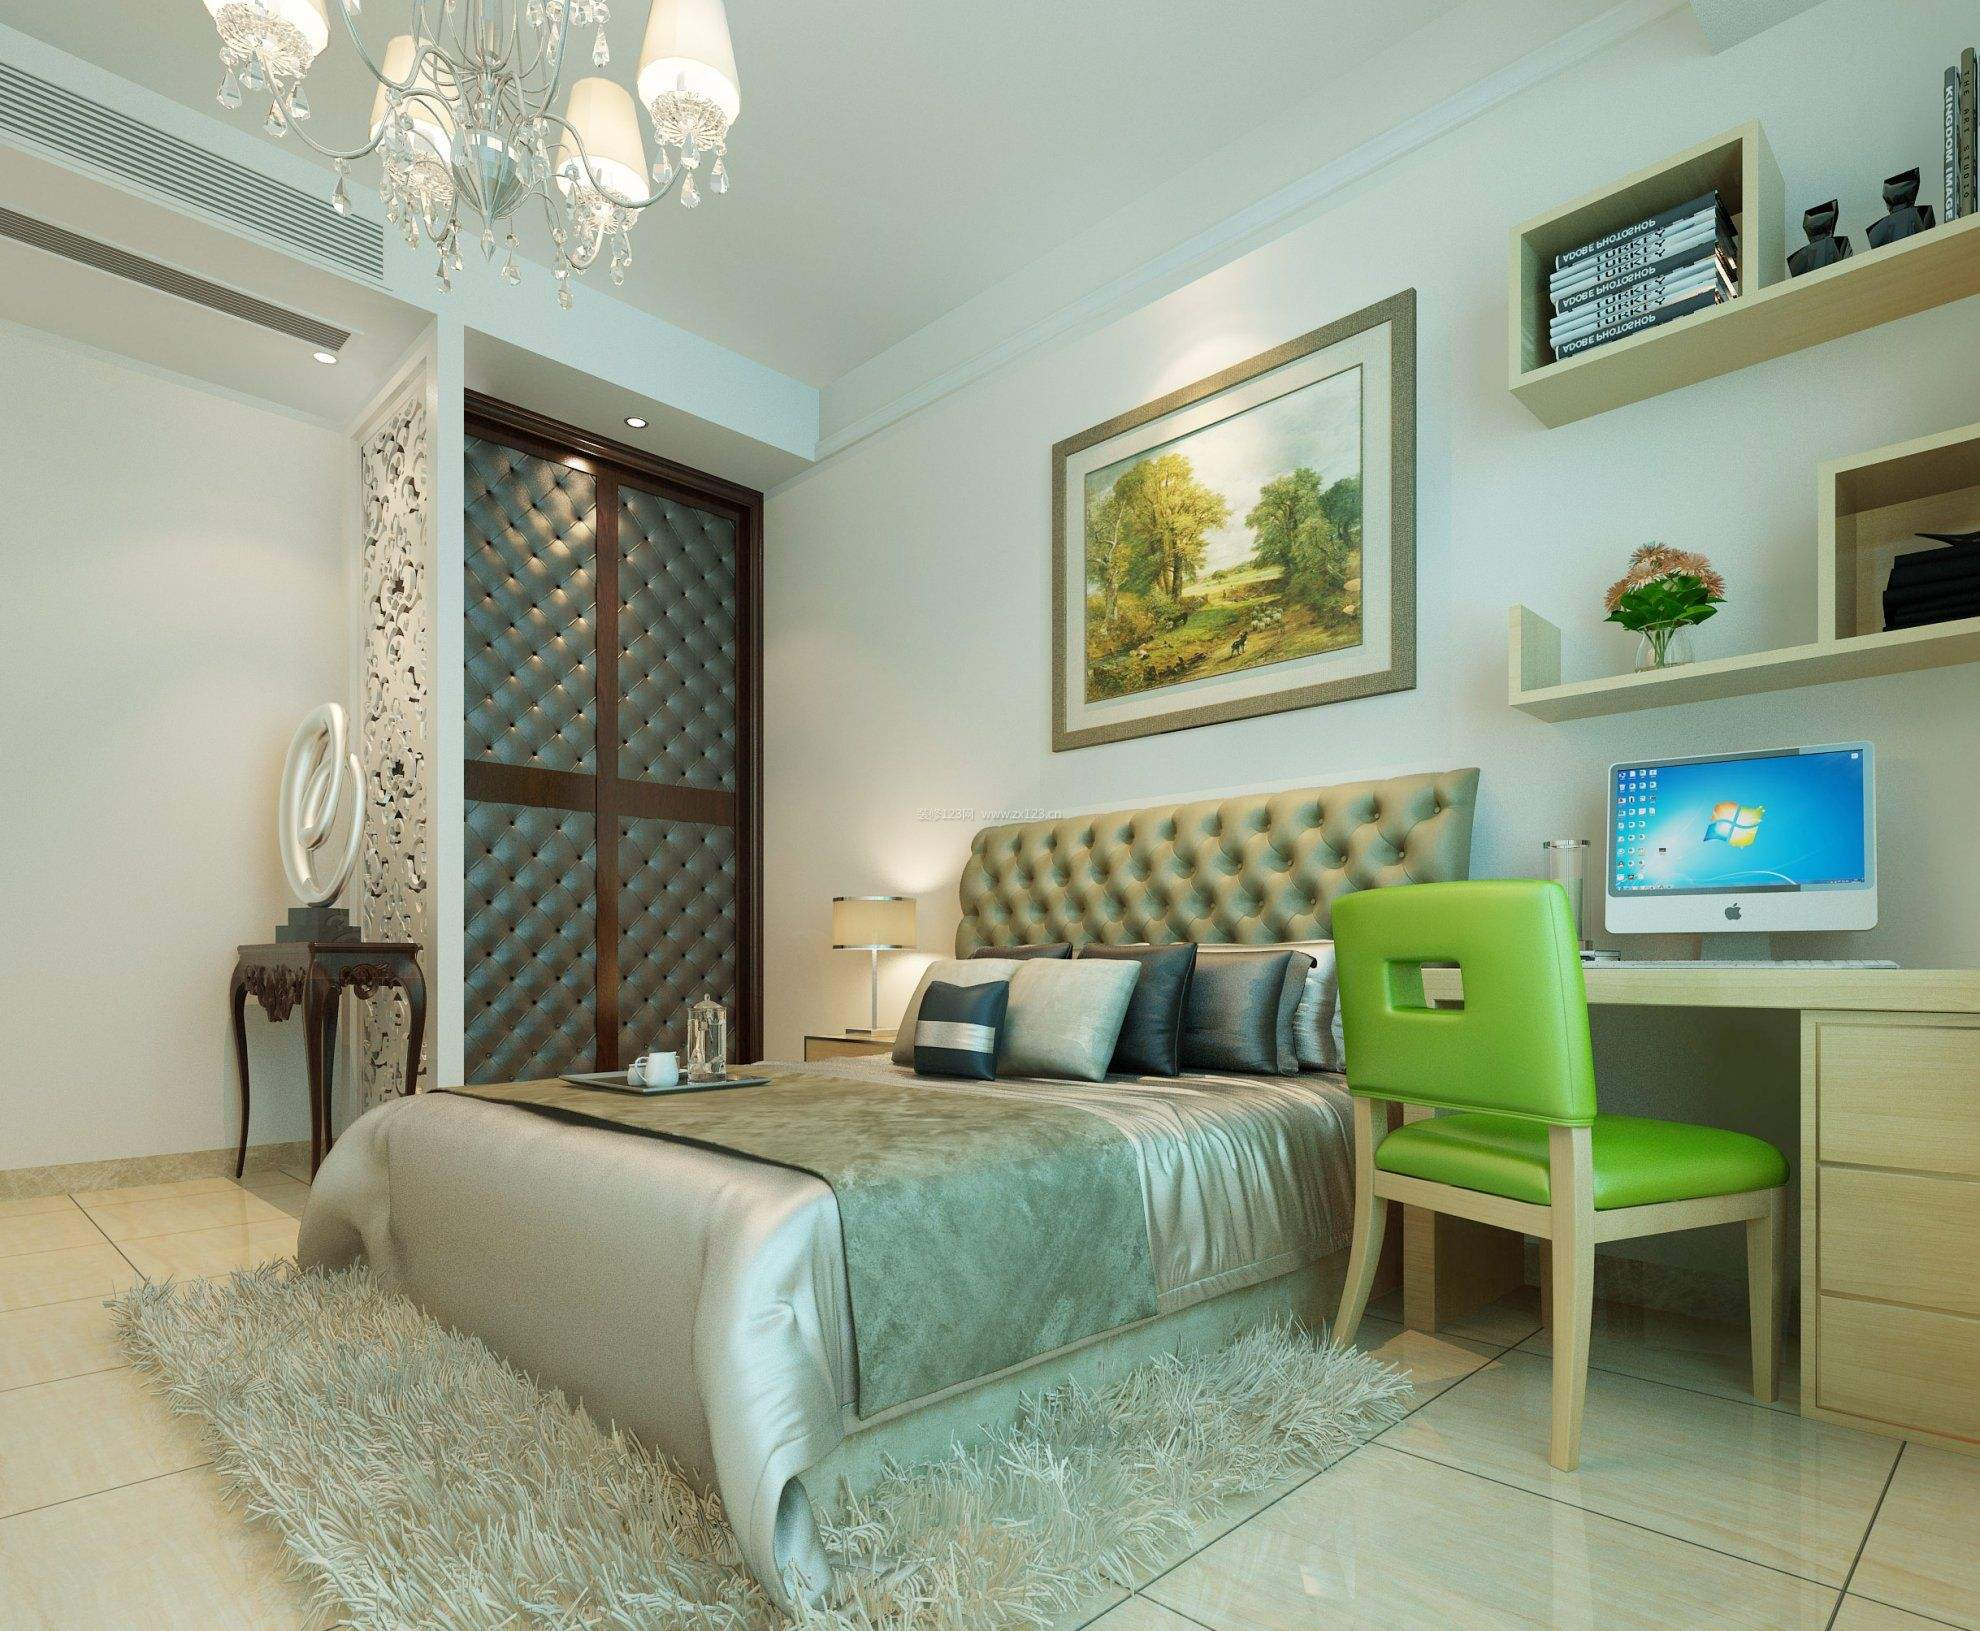床: (253, 1047, 1375, 1539)
枕头: (868, 929, 1380, 1092)
灯: (210, 0, 748, 303), (811, 896, 919, 1051), (612, 408, 648, 432)
